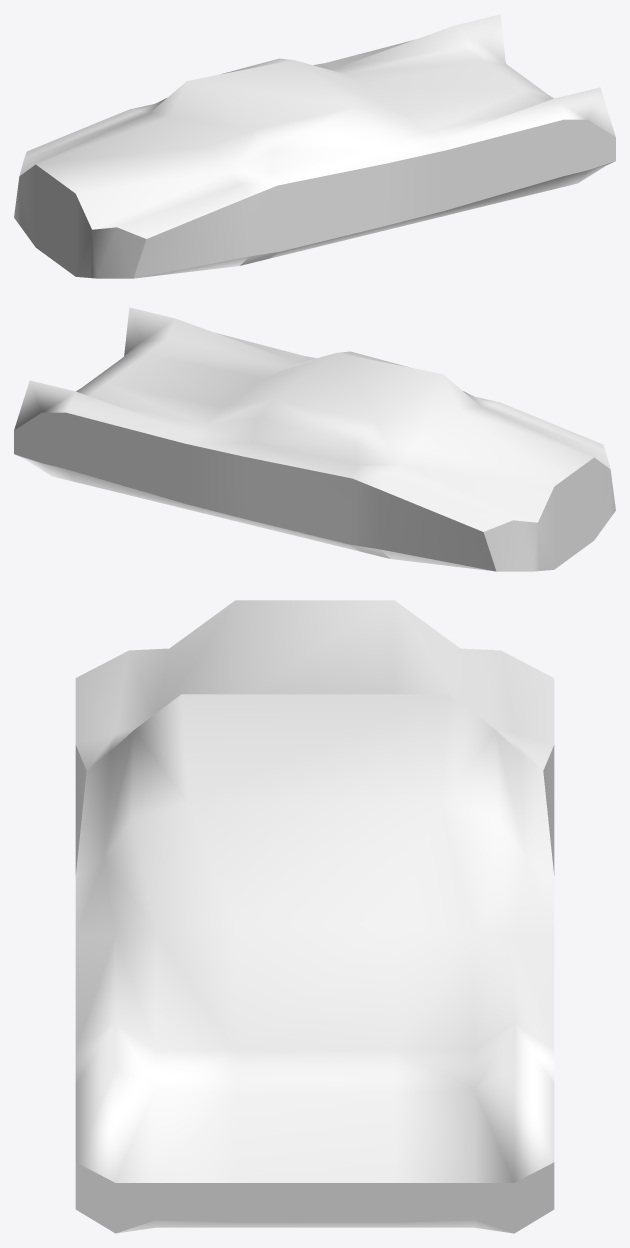
File: CorvegaV8Collider.obj
3 views of the same model, one above another, from view 1: azimuth 30°, elevation 25°; view 2: azimuth 150°, elevation 25°; view 3: azimuth 270°, elevation 25° (orthographic). The views are drawn at different scales.
Parts seen in each view (by area): view 1: CorvegaV8Collider:collider; view 2: CorvegaV8Collider:collider; view 3: CorvegaV8Collider:collider.
Part boxes in pixels (x1,y1,x2,y2): CorvegaV8Collider:collider: (14,14,615,278); CorvegaV8Collider:collider: (14,307,615,571); CorvegaV8Collider:collider: (75,600,554,1233).
Size of the model in its own units: 445 by 98.94 by 184.
